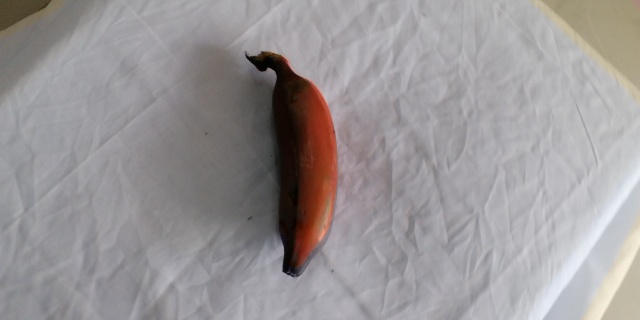banana_red: (248, 46, 340, 278)
